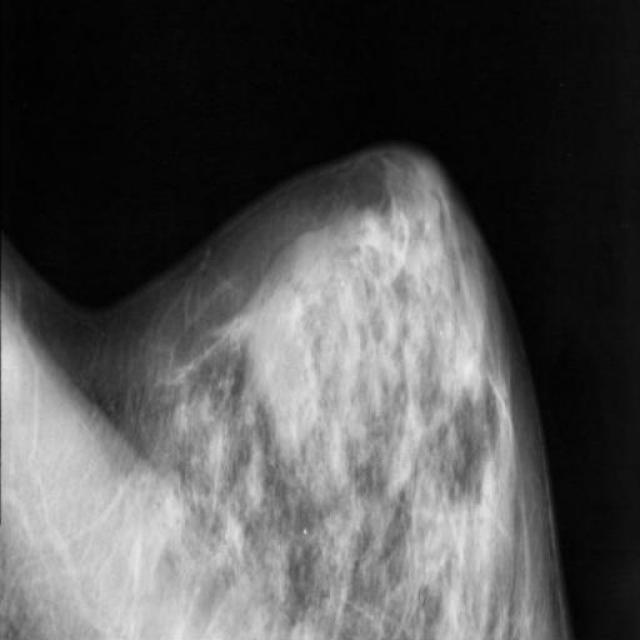cancer: (243, 266, 335, 502)
